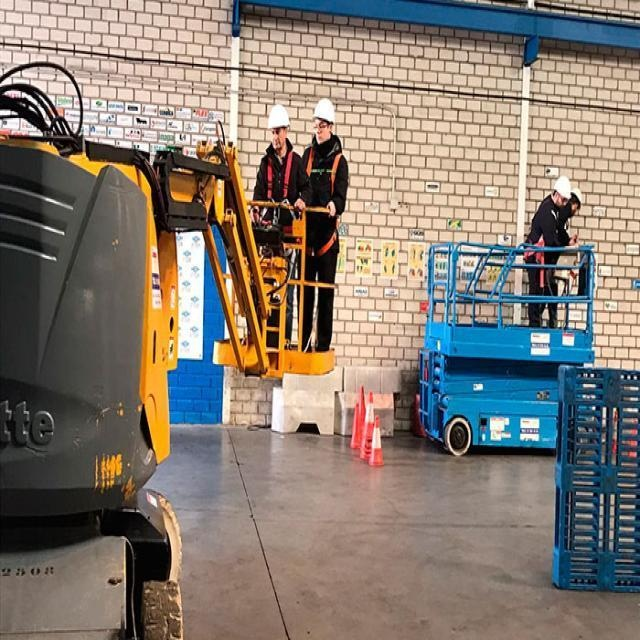Arnes_seguridad: (259, 150, 298, 239), (306, 146, 338, 254), (524, 239, 552, 288)
